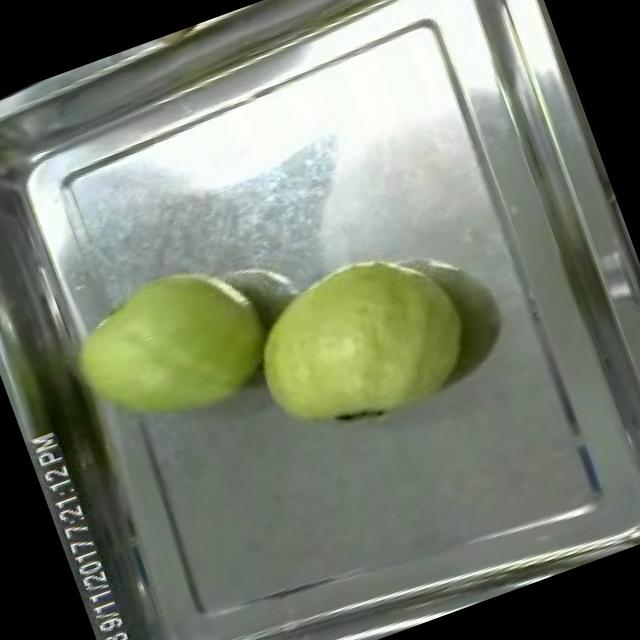Fruit: (224, 220, 496, 462), (52, 238, 294, 454)
